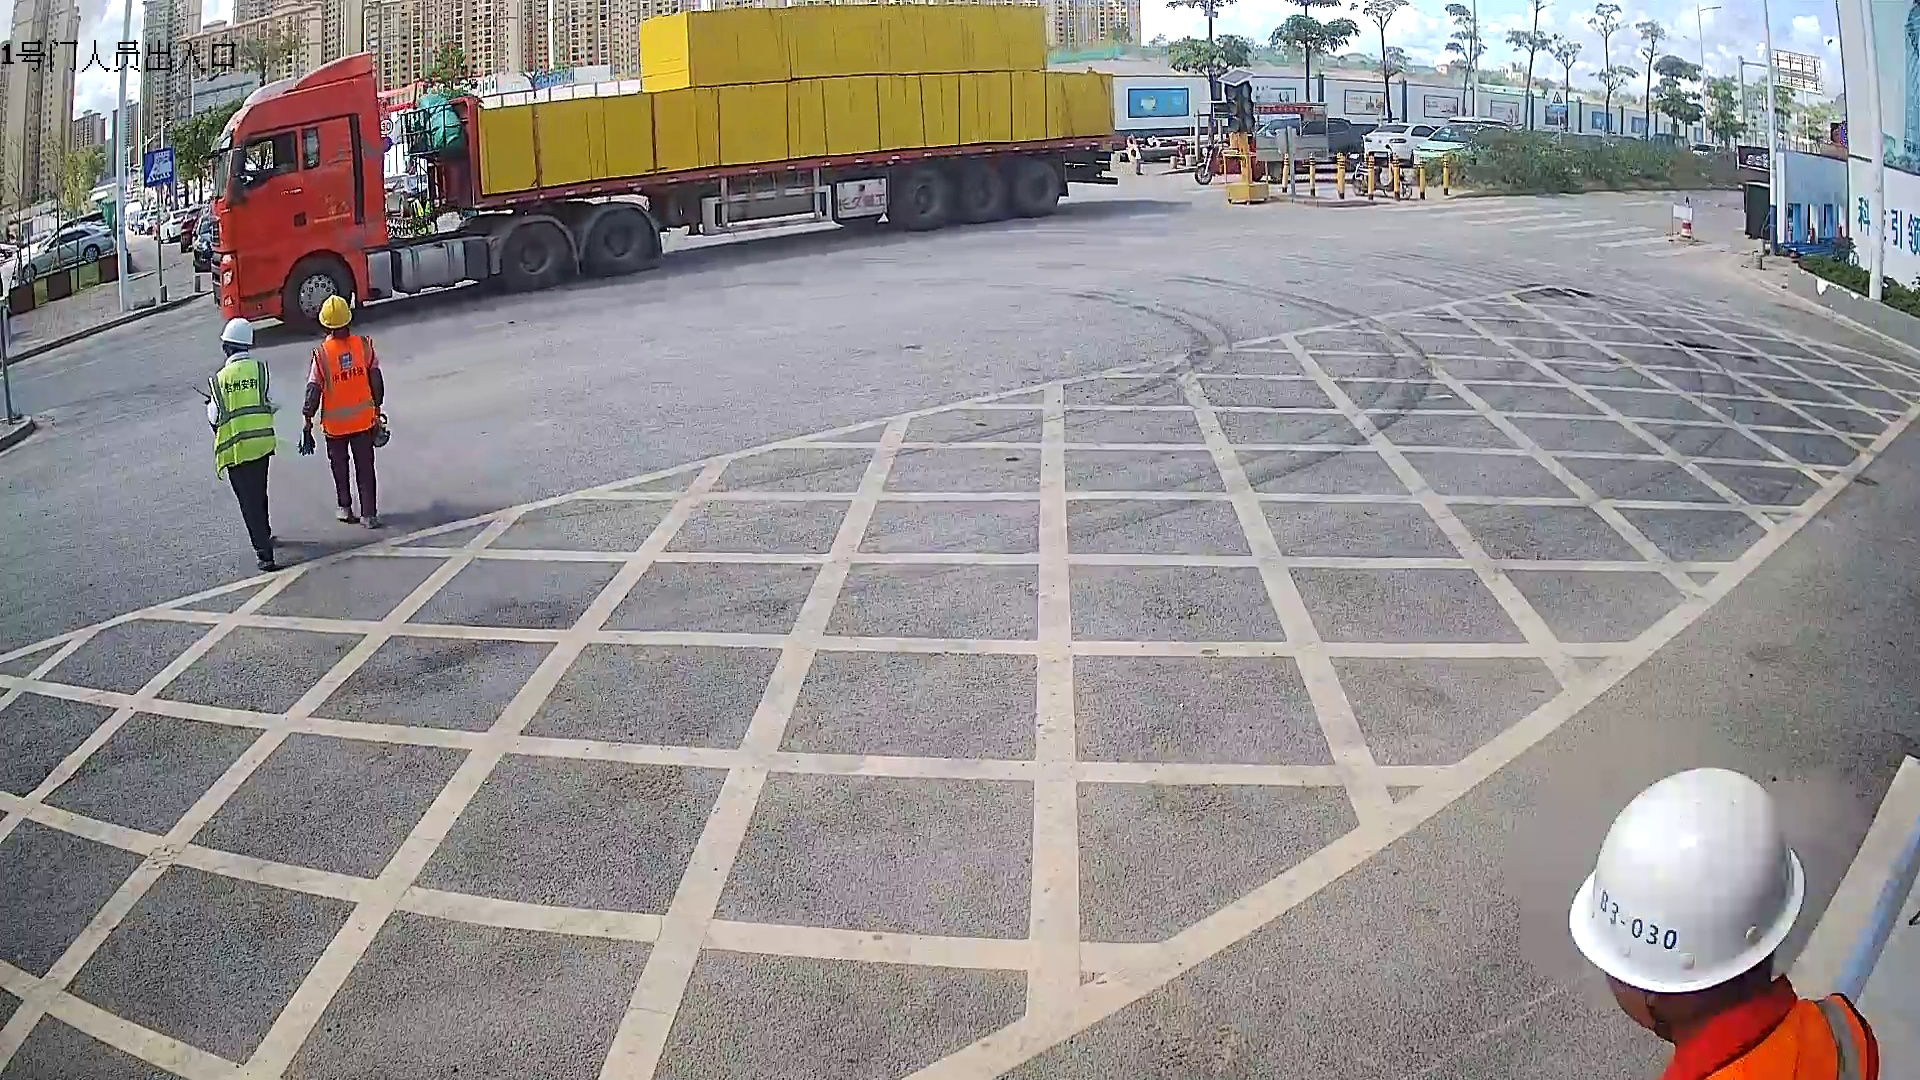person: (293, 293, 392, 531), (204, 317, 281, 573)
reflective_vest: (205, 358, 277, 481), (310, 334, 378, 438)
safety_helmet: (1558, 757, 1811, 1043), (318, 293, 353, 340), (218, 316, 255, 361)
